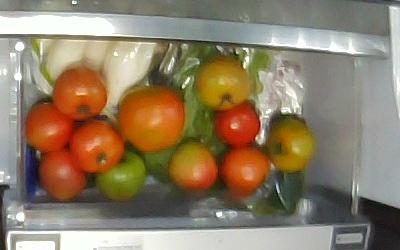tomato: (120, 87, 184, 150), (53, 67, 108, 120), (195, 56, 249, 109), (95, 148, 145, 201), (37, 148, 86, 202), (267, 117, 315, 172), (217, 146, 268, 195), (170, 141, 218, 191), (27, 100, 71, 151), (214, 102, 260, 145)
